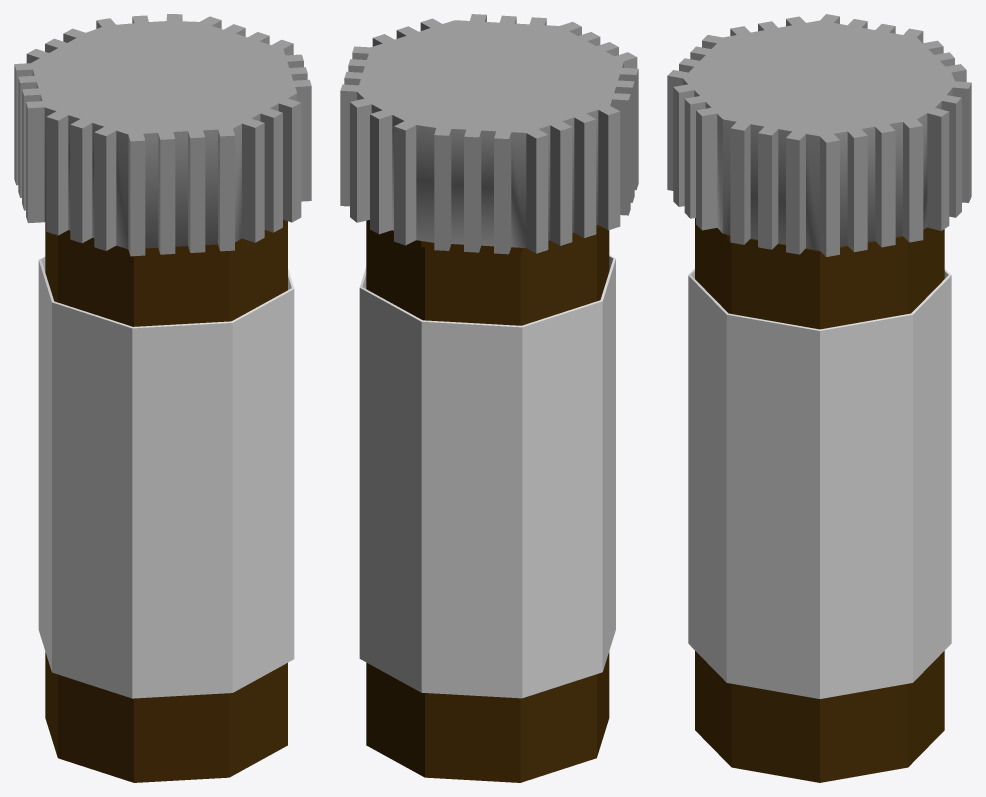
Rendered from pillAndContainer.fbx.
3 views of the same model, side by side, from view 1: azimuth 30°, elevation 25°; view 2: azimuth 150°, elevation 25°; view 3: azimuth 270°, elevation 25° (orthographic).
Visible parts, largest first — view 1: polySurface110, polySurface121, polySurface109; view 2: polySurface110, polySurface121, polySurface109; view 3: polySurface110, polySurface121, polySurface109.
Boxes of the visible parts, left/top/right/bottom form: polySurface110: left=38, top=256, right=294, bottom=698; polySurface121: left=14, top=14, right=311, bottom=256; polySurface109: left=45, top=220, right=287, bottom=782; polySurface110: left=359, top=255, right=615, bottom=698; polySurface121: left=340, top=14, right=638, bottom=254; polySurface109: left=366, top=220, right=609, bottom=782; polySurface110: left=688, top=269, right=951, bottom=698; polySurface121: left=667, top=14, right=971, bottom=256; polySurface109: left=695, top=218, right=944, bottom=782.
Bounding box in the file's own units: 4.36 × 10.4 × 4.35.
